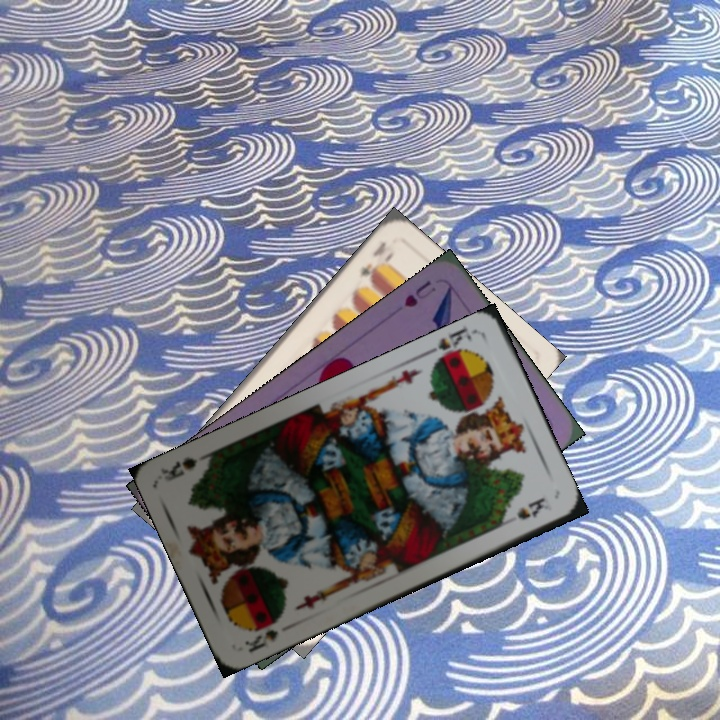E10: (355, 237, 397, 285)
HU: (400, 276, 439, 310)
SK: (422, 324, 475, 369), (240, 625, 281, 656)
